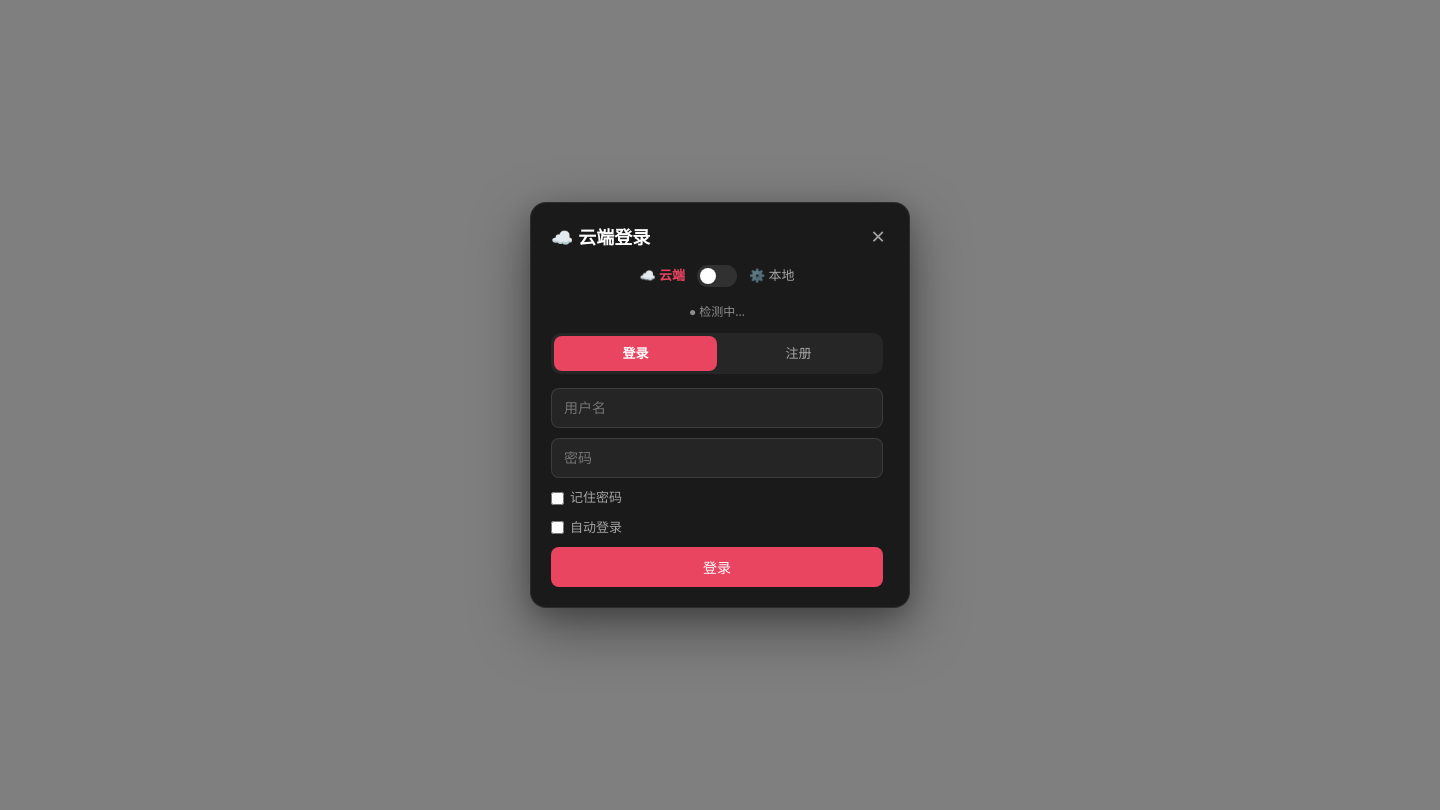
Test: AuthPanel.vue › 点击模式切换应弹出确认弹窗
Click the text with class "mode-label" showing "⚙️ 本地" at (772, 276), box [749,266,795,286]
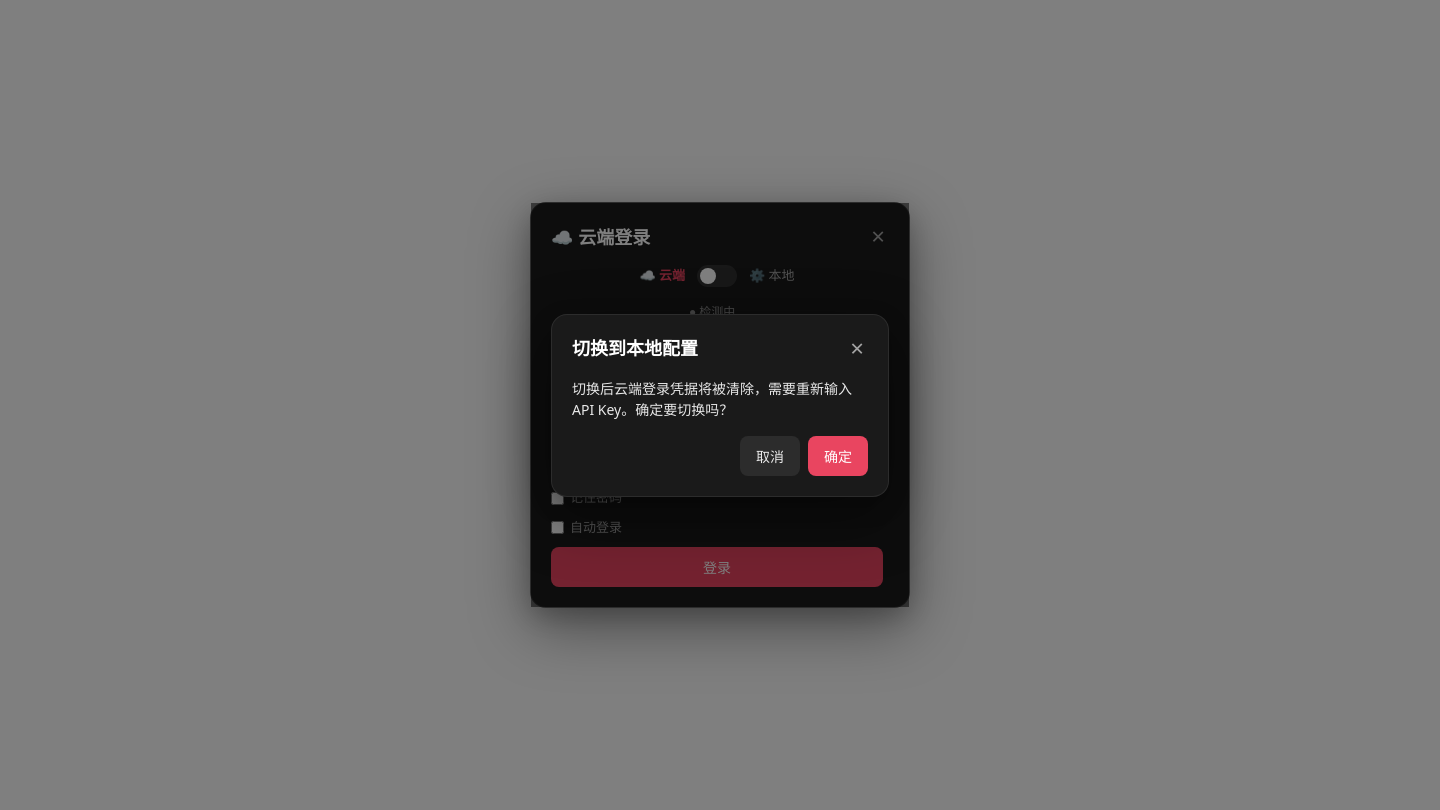
Result: the text "确定要切换吗？" is shown at [572,378,852,418]
